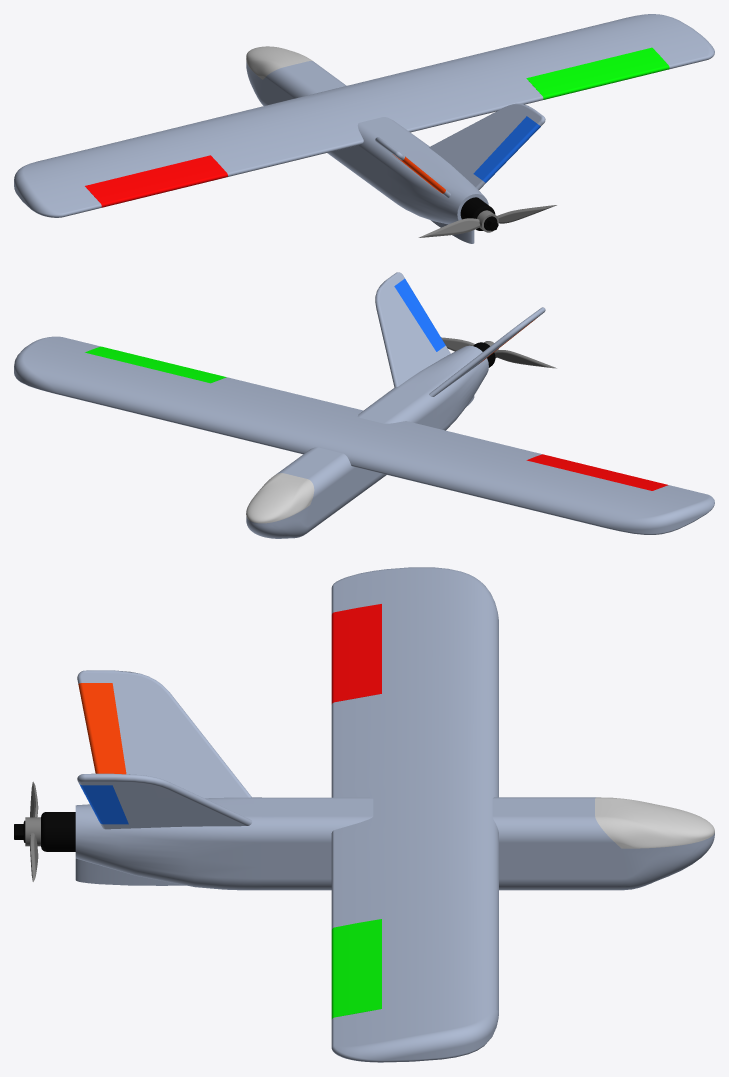
Rendered from iNav-Vtail.obj.
3 views of the same model, one above another, from view 1: azimuth 30°, elevation 25°; view 2: azimuth 150°, elevation 25°; view 3: azimuth 270°, elevation 25° (orthographic). The views are drawn at different scales.
Parts seen in each view (by area): view 1: V-Tail_R; view 2: V-Tail_R; view 3: V-Tail_R.
Part boxes in pixels (x1,y1,x2,y2): V-Tail_R: (14, 14, 714, 243); V-Tail_R: (14, 272, 714, 538); V-Tail_R: (14, 567, 714, 1062).
Size of the model in its own units: 10.27 by 1.56 by 6.3.
